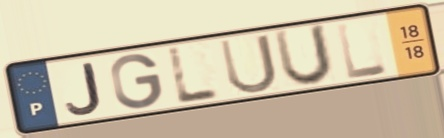G: (108, 52, 165, 112)
J: (64, 60, 105, 117)
L: (166, 44, 224, 107), (334, 20, 391, 82)
U: (270, 21, 336, 88), (216, 31, 281, 97)
